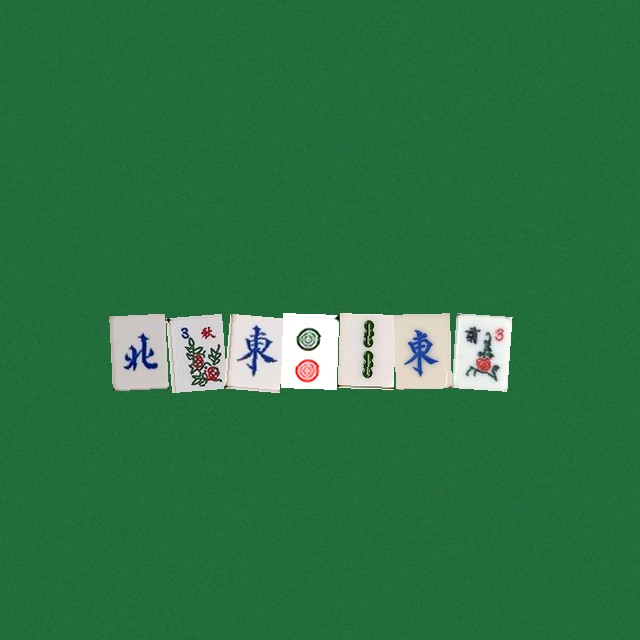tile: (109, 313, 165, 388), (166, 313, 222, 388), (223, 313, 279, 388), (280, 313, 336, 388), (337, 313, 393, 388), (394, 313, 450, 388), (451, 313, 507, 388)
